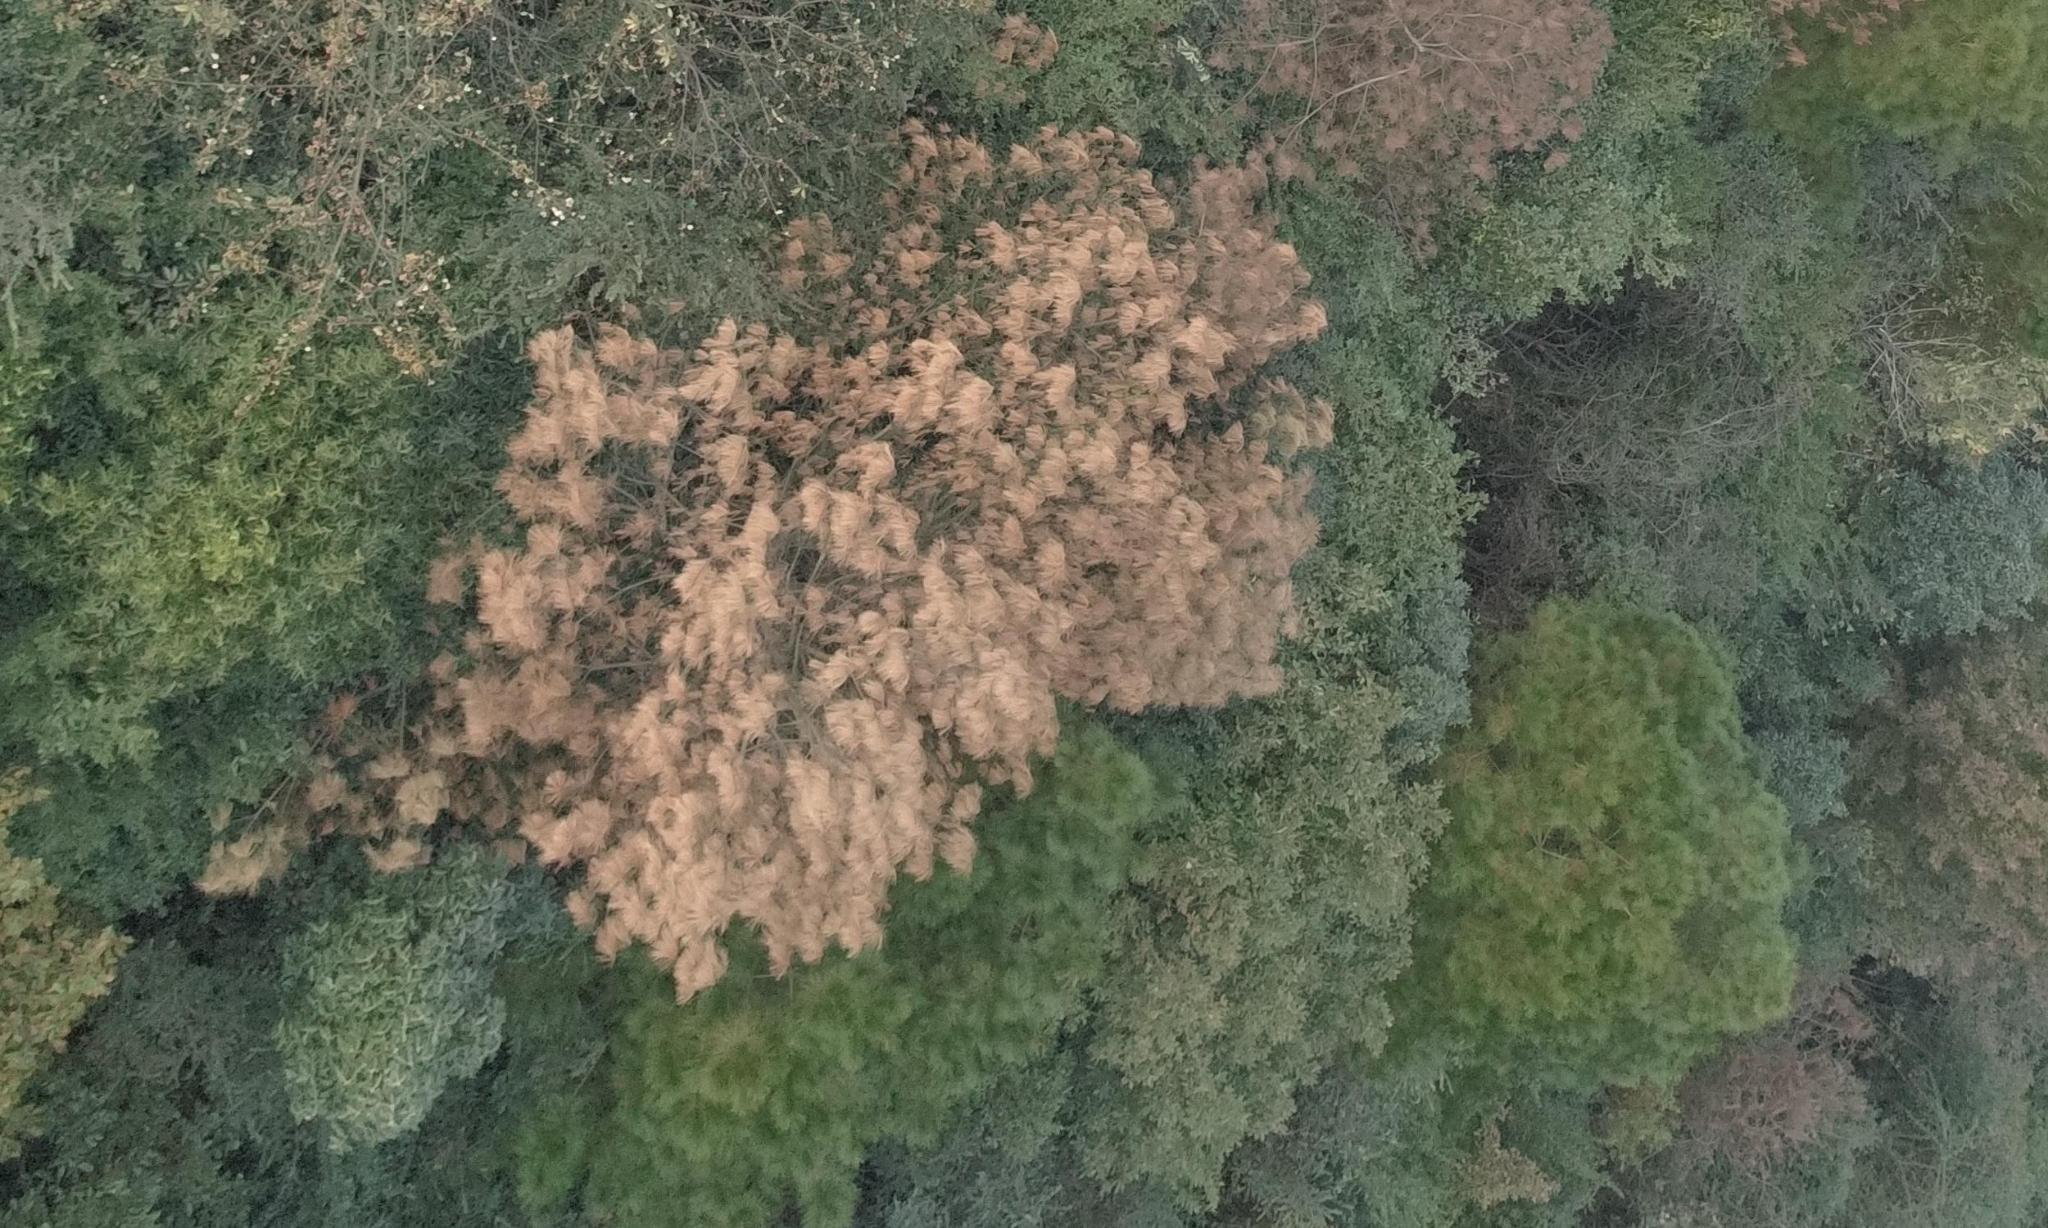heavy: (456, 115, 1245, 991), (1282, 3, 1615, 193)
light: (1443, 645, 1628, 974)
